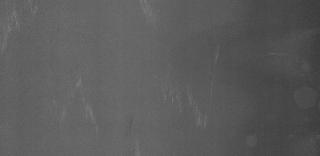oil spot: (290, 82, 320, 110), (238, 126, 264, 154)
silk spot: (160, 74, 212, 128), (66, 75, 102, 130), (2, 5, 40, 42), (137, 5, 165, 27)
